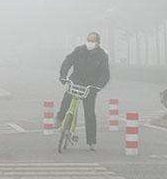person: (54, 30, 109, 153)
